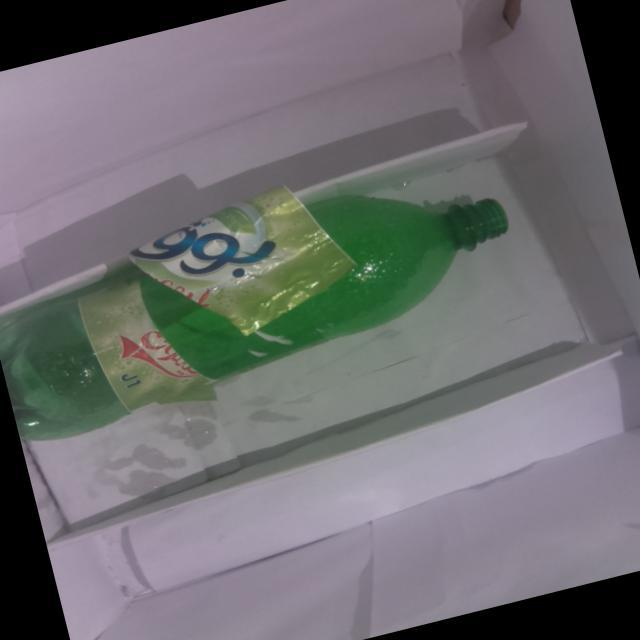good: (1, 130, 558, 454)
